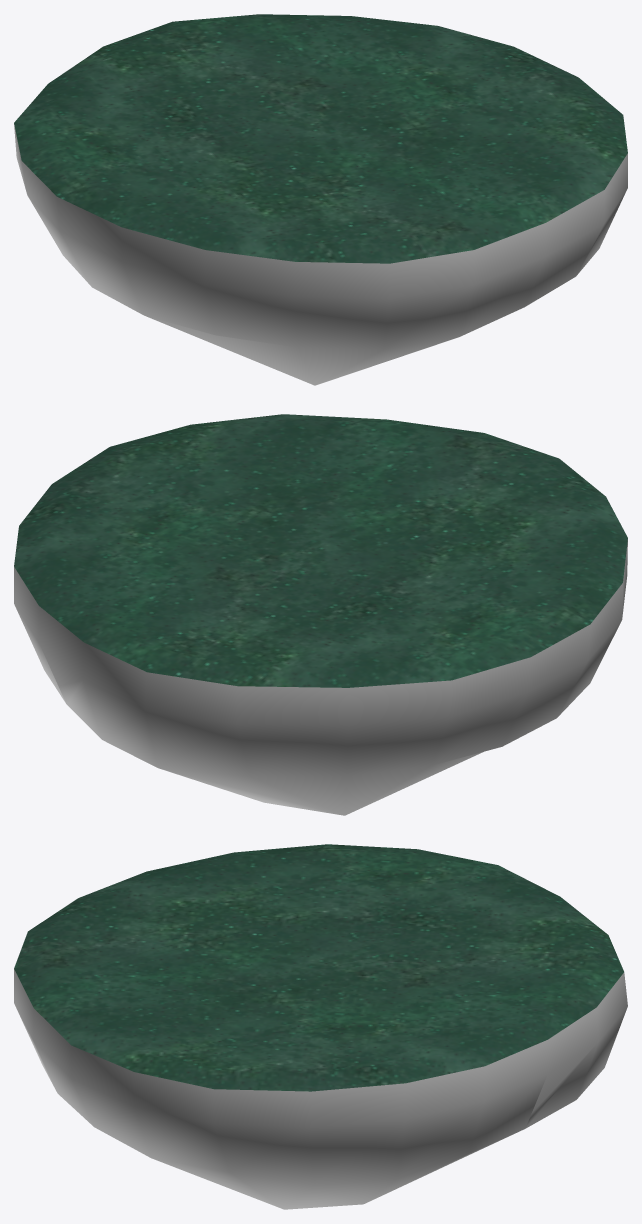
The model's file is platform_basic.fbx.
3 renders of one model, top to bottom at view 1: azimuth 30°, elevation 25°; view 2: azimuth 150°, elevation 25°; view 3: azimuth 270°, elevation 25°, orthographic. The views are drawn at different scales.
Visible parts, largest first — view 1: platform_deformes; view 2: platform_deformes; view 3: platform_deformes.
Boxes of the visible parts, <box> form: platform_deformes: <box>14,14,627,385</box>; platform_deformes: <box>14,414,627,815</box>; platform_deformes: <box>14,844,627,1209</box>.
Size of the model in its own units: 30.83 by 13.24 by 32.35.
